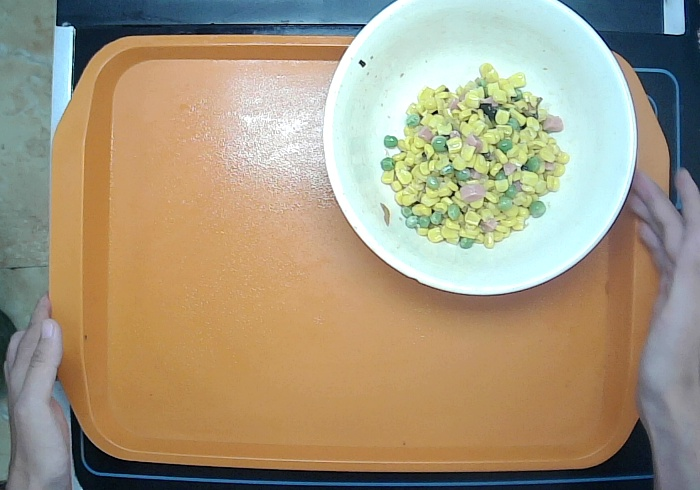ZNLD-Da_Tang_Wan: (321, 1, 638, 297)
